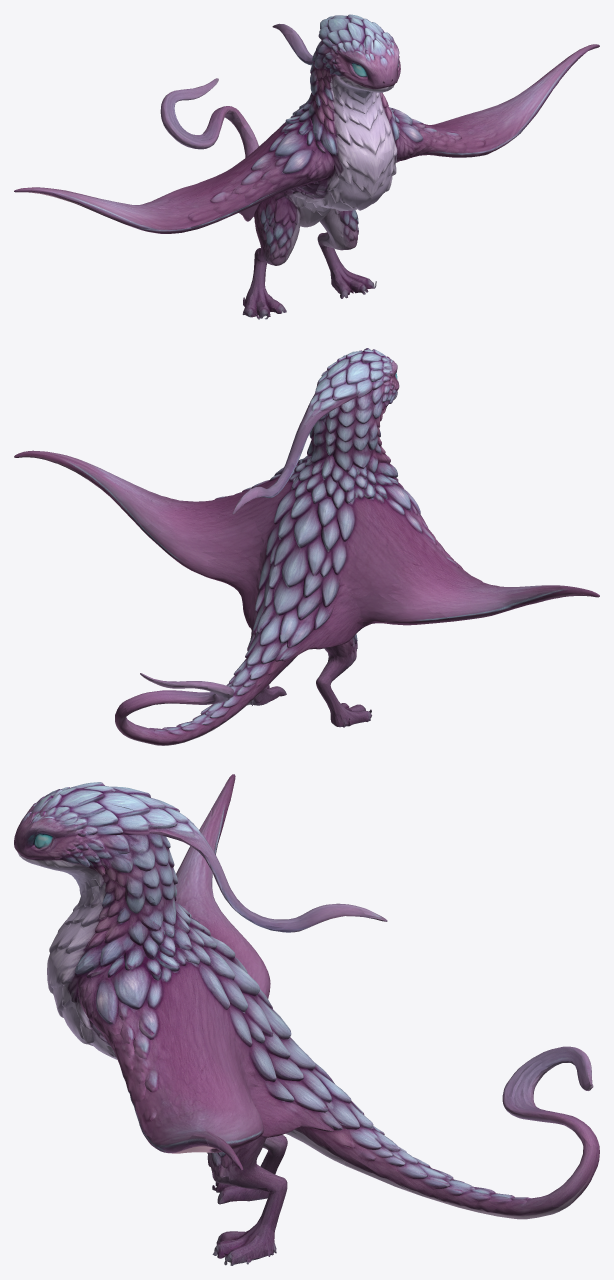
Rendered from ribbonray_a.glb.
The picture shows the model from 3 angles, top to bottom: view 1: azimuth 30°, elevation 25°; view 2: azimuth 150°, elevation 25°; view 3: azimuth 270°, elevation 25°; orthographic projection. The views are drawn at different scales.
Visible parts, largest first — view 1: Mesh_0; view 2: Mesh_0; view 3: Mesh_0.
Part boxes in pixels (x1,y1,x2,y2): Mesh_0: (14, 14, 599, 319); Mesh_0: (14, 348, 599, 745); Mesh_0: (14, 774, 599, 1265).
Size of the model in its own units: 1.9 by 0.9783 by 1.19.
1 material, 1 textured.
